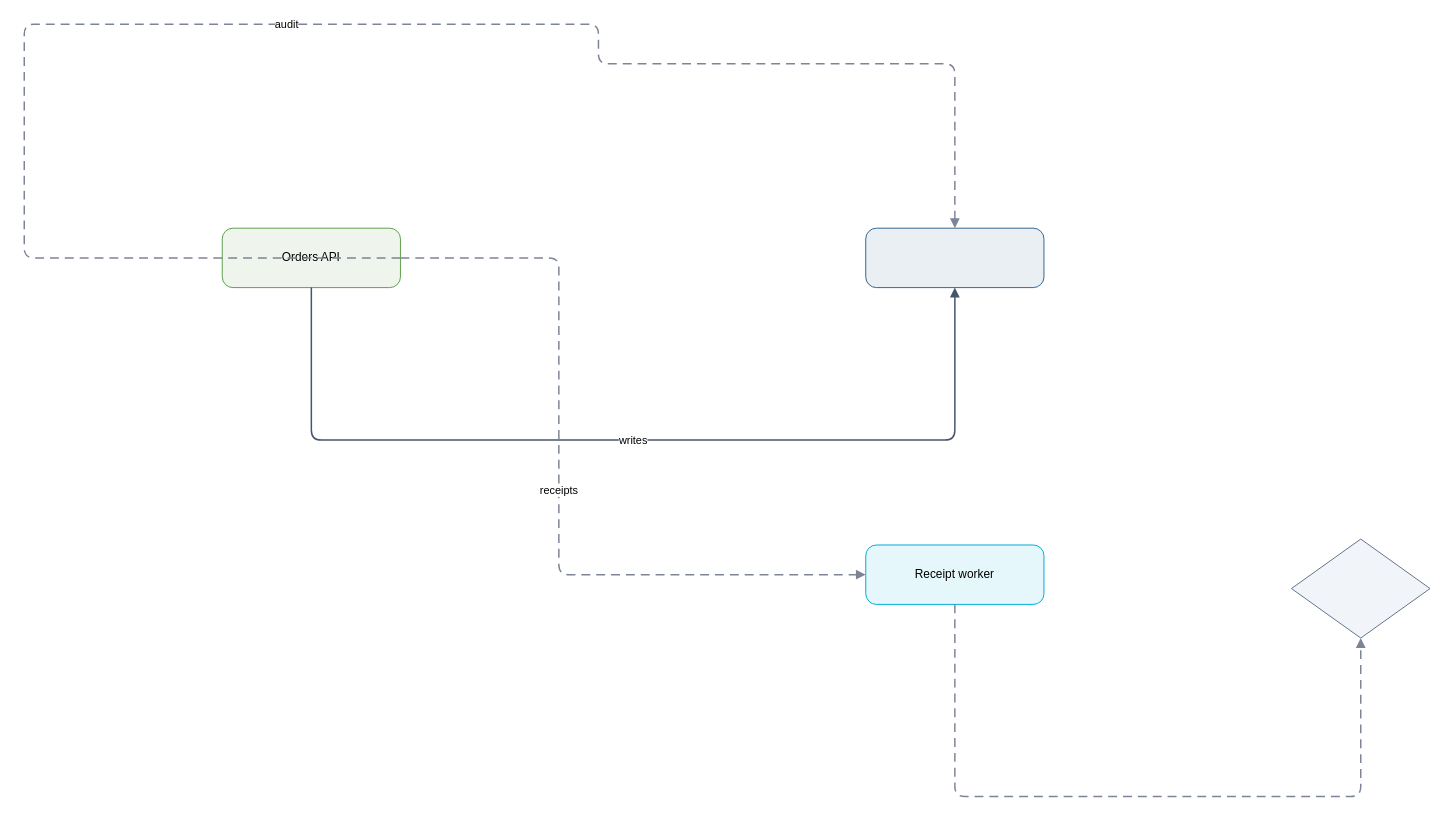
Image size: 1448x823. Some labels were removed from this diagram. The shapes that lost their labels are listed below. From the top down, each one's box as (x1, y1, x2, y2) in pixels, then its label:
(865, 227, 1044, 288): Orders DB
(1290, 538, 1430, 638): Archive
